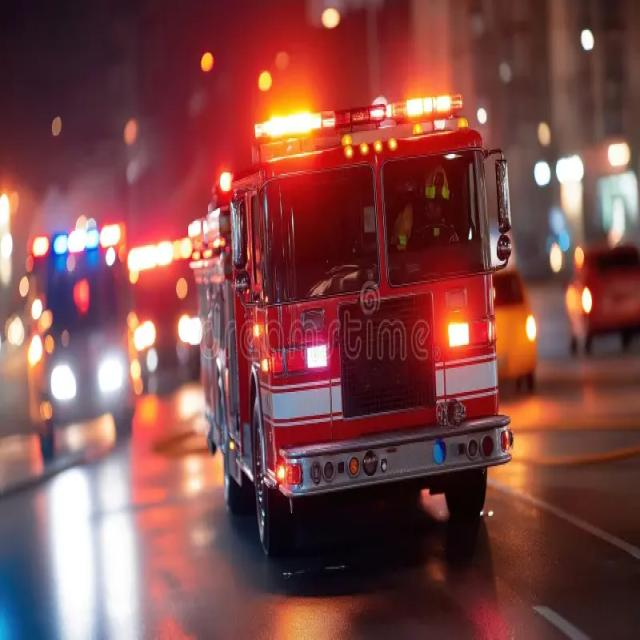emergency lights: (36, 225, 132, 261)
